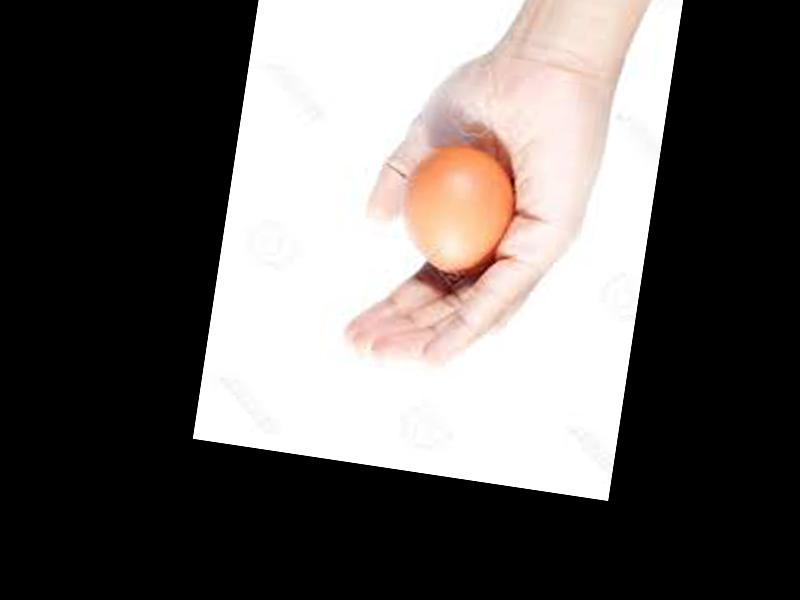Eggs: (395, 140, 518, 278)
